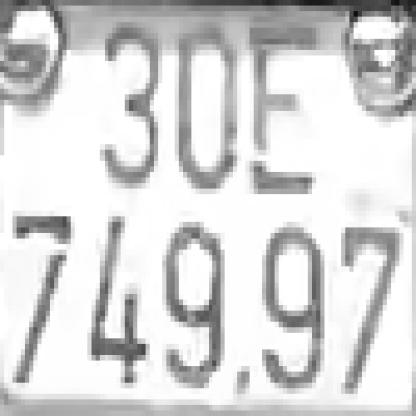0: (179, 28, 237, 194)
3: (100, 28, 162, 188)
4: (92, 211, 150, 377)
7: (337, 228, 399, 388), (13, 210, 70, 382)
9: (258, 222, 320, 388), (162, 216, 220, 377)
E: (250, 28, 312, 194)
